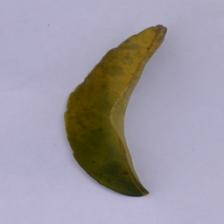greening: (63, 20, 172, 120)
